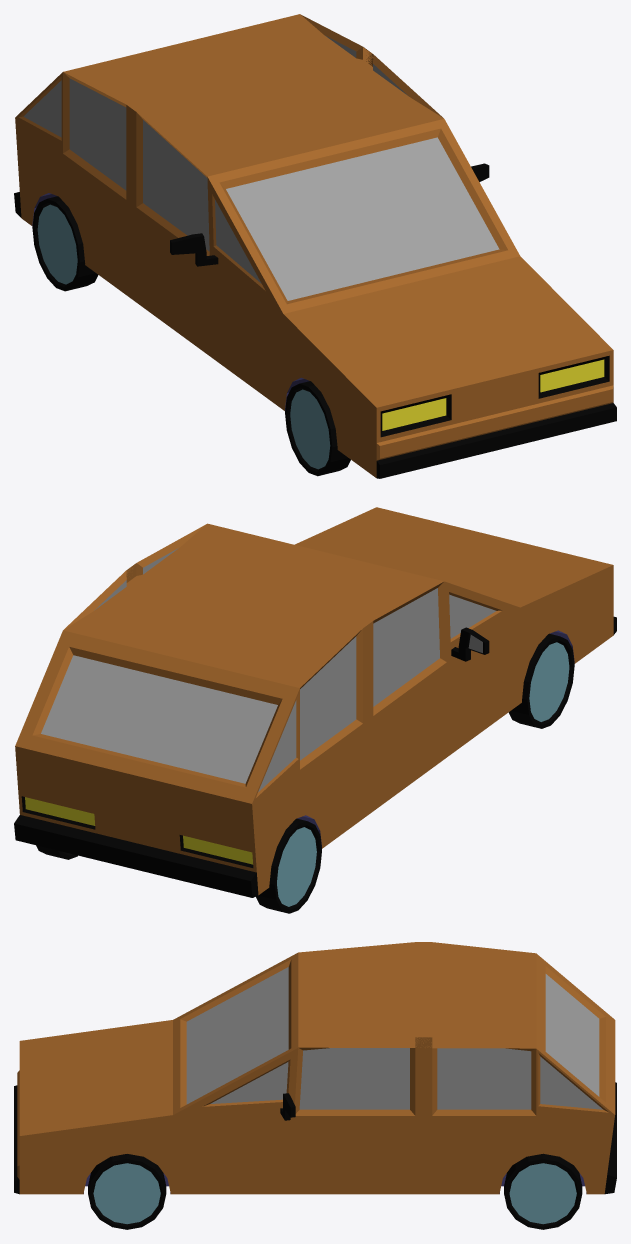
File: Hatchback car 3.fbx
3 views of the same model, one above another, from view 1: azimuth 30°, elevation 25°; view 2: azimuth 150°, elevation 25°; view 3: azimuth 270°, elevation 25° (orthographic). The views are drawn at different scales.
Parts seen in each view (by area): view 1: Hatchback Car Body.003, Wheel RR.015, Wheel FR.017; view 2: Hatchback Car Body.003, Wheel FR.017, Wheel RR.015; view 3: Hatchback Car Body.003, Wheel RL.015, Wheel FL.017.
Part boxes in pixels (x1,y1,x2,y2): Hatchback Car Body.003: (14, 14, 616, 478); Wheel RR.015: (32, 196, 98, 291); Wheel FR.017: (285, 381, 350, 476); Hatchback Car Body.003: (14, 507, 616, 897); Wheel FR.017: (508, 633, 574, 728); Wheel RR.015: (256, 818, 321, 913); Hatchback Car Body.003: (14, 942, 616, 1194); Wheel RL.015: (504, 1153, 582, 1229); Wheel FL.017: (88, 1154, 166, 1229).
Bounding box in the file's own units: 1.72 × 1.2 × 3.43.
